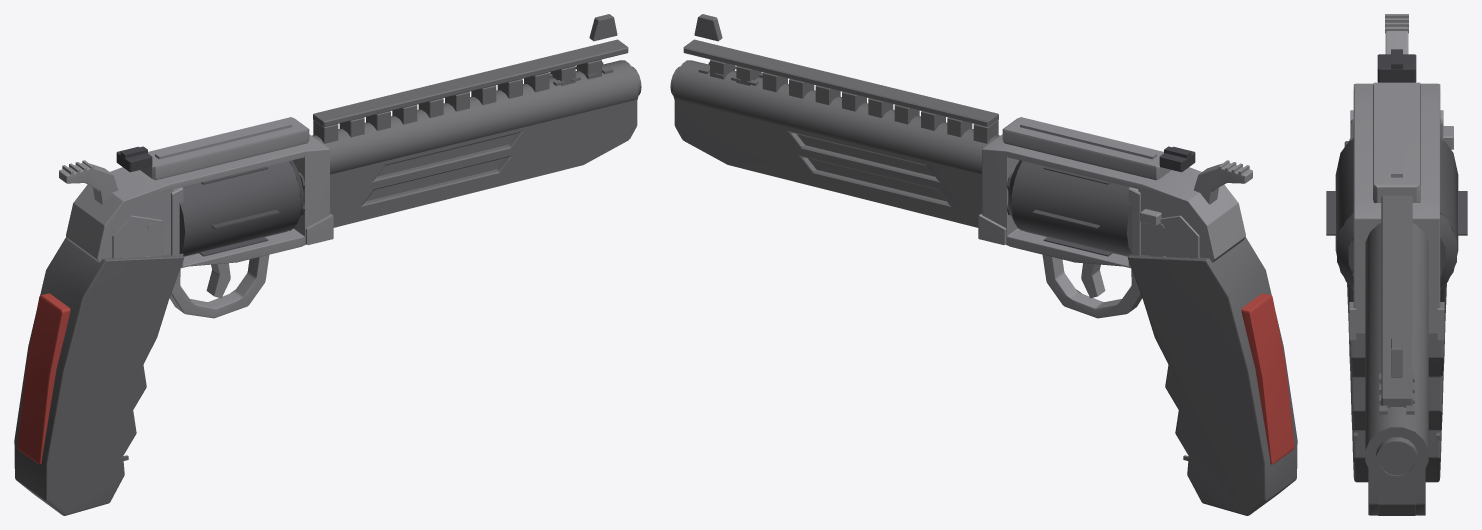
File: RB-454_ensamblada.glb
3 views of the same model, side by side, from view 1: azimuth 30°, elevation 25°; view 2: azimuth 150°, elevation 25°; view 3: azimuth 270°, elevation 25° (orthographic). The views are drawn at different scales.
Parts seen in each view (by area): view 1: guardamanos_canon, empunadura, cuerpo, tambor, inserto, mira; view 2: guardamanos_canon, empunadura, cuerpo, tambor, inserto, mira; view 3: guardamanos_canon, cuerpo, tambor, empunadura, mira.
Part boxes in pixels (x1=…): guardamanos_canon: x1=312, y1=14, x2=641, y2=227; empunadura: x1=14, y1=237, x2=183, y2=515; cuerpo: x1=59, y1=117, x2=333, y2=318; tambor: x1=179, y1=160, x2=305, y2=256; inserto: x1=17, y1=293, x2=70, y2=464; mira: x1=116, y1=146, x2=152, y2=172; guardamanos_canon: x1=670, y1=14, x2=999, y2=227; empunadura: x1=1128, y1=237, x2=1297, y2=515; cuerpo: x1=978, y1=117, x2=1252, y2=318; tambor: x1=1006, y1=160, x2=1132, y2=256; inserto: x1=1241, y1=293, x2=1294, y2=464; mira: x1=1159, y1=146, x2=1195, y2=172; guardamanos_canon: x1=1365, y1=195, x2=1428, y2=515; cuerpo: x1=1349, y1=14, x2=1453, y2=340; tambor: x1=1326, y1=138, x2=1467, y2=289; empunadura: x1=1344, y1=141, x2=1446, y2=482; mira: x1=1377, y1=49, x2=1416, y2=82.
Bounding box in the file's own units: 0.3194 × 0.178 × 0.0473.
